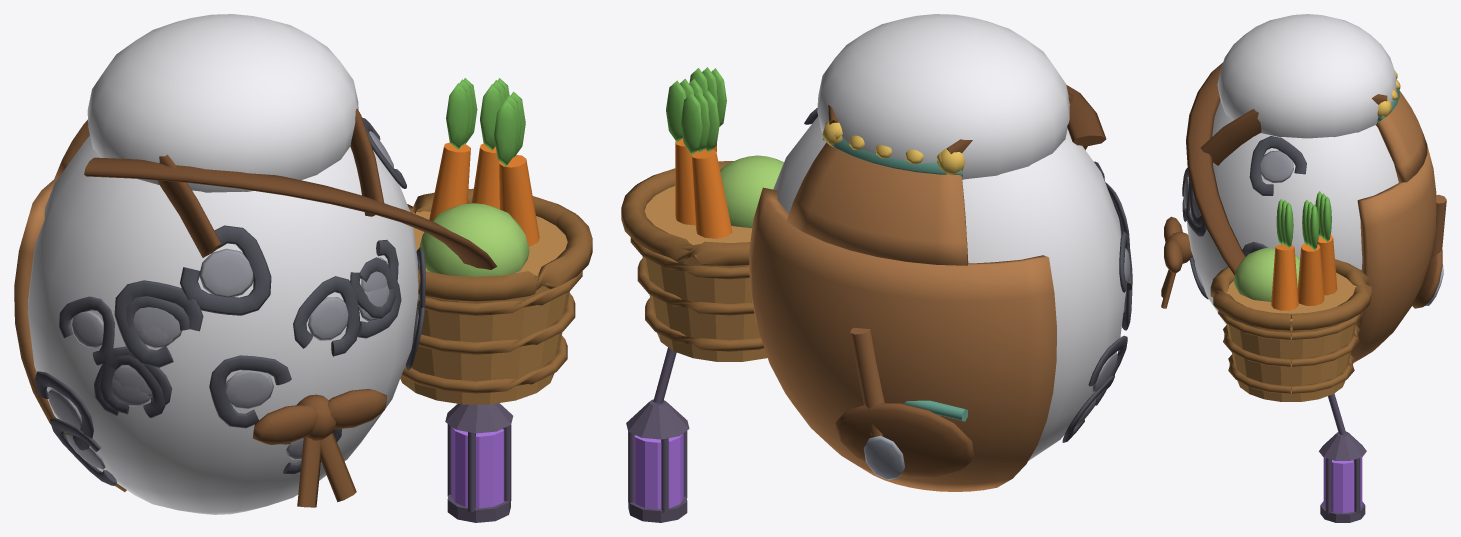
Rendered from SnowLeopardBody.glb.
3 renders of one model, left to right at view 1: azimuth 30°, elevation 25°; view 2: azimuth 150°, elevation 25°; view 3: azimuth 270°, elevation 25°, orthographic. The views are drawn at different scales.
Parts seen in each view (by area): view 1: SnowLeopardBody__Fur, SnowLeopardBody__Spot, SnowLeopardBody__BasketDark, SnowLeopardBody__Basket, SnowLeopardBody__SpotMid, SnowLeopardBody__Strap, SnowLeopardBody__ApronDark, SnowLeopardBody__Carrot, SnowLeopardBody__Cabbage, SnowLeopardBody__Leaf, SnowLeopardBody__LanternMetal, SnowLeopardBody__Apron (+1 smaller); view 2: SnowLeopardBody__Apron, SnowLeopardBody__Fur, SnowLeopardBody__Basket, SnowLeopardBody__BasketDark, SnowLeopardBody__ApronDark, SnowLeopardBody__LanternMetal, SnowLeopardBody__Carrot, SnowLeopardBody__Leaf, SnowLeopardBody__LanternGlass, SnowLeopardBody__Cabbage, SnowLeopardBody__Spot, SnowLeopardBody__Strap (+5 smaller); view 3: SnowLeopardBody__Fur, SnowLeopardBody__Apron, SnowLeopardBody__BasketDark, SnowLeopardBody__Basket, SnowLeopardBody__Strap, SnowLeopardBody__Carrot, SnowLeopardBody__LanternMetal, SnowLeopardBody__Spot, SnowLeopardBody__ApronDark, SnowLeopardBody__Leaf, SnowLeopardBody__Cabbage, SnowLeopardBody__LanternGlass (+2 smaller).
Boxes of the visible parts, x1=… form: SnowLeopardBody__Fur: x1=27, y1=14, x2=418, y2=514; SnowLeopardBody__Spot: x1=34, y1=117, x2=425, y2=485; SnowLeopardBody__BasketDark: x1=401, y1=188, x2=592, y2=393; SnowLeopardBody__Basket: x1=400, y1=211, x2=569, y2=404; SnowLeopardBody__SpotMid: x1=48, y1=131, x2=420, y2=469; SnowLeopardBody__Strap: x1=84, y1=109, x2=497, y2=269; SnowLeopardBody__ApronDark: x1=253, y1=389, x2=387, y2=507; SnowLeopardBody__Carrot: x1=429, y1=142, x2=539, y2=246; SnowLeopardBody__Cabbage: x1=419, y1=203, x2=529, y2=276; SnowLeopardBody__Leaf: x1=446, y1=78, x2=525, y2=166; SnowLeopardBody__LanternMetal: x1=445, y1=403, x2=513, y2=522; SnowLeopardBody__Apron: x1=14, y1=119, x2=126, y2=491; SnowLeopardBody__Apron: x1=749, y1=142, x2=1056, y2=491; SnowLeopardBody__Fur: x1=773, y1=14, x2=1125, y2=460; SnowLeopardBody__Basket: x1=642, y1=186, x2=767, y2=361; SnowLeopardBody__BasketDark: x1=621, y1=161, x2=763, y2=351; SnowLeopardBody__ApronDark: x1=835, y1=403, x2=974, y2=476; SnowLeopardBody__LanternMetal: x1=626, y1=347, x2=689, y2=522; SnowLeopardBody__Carrot: x1=675, y1=138, x2=732, y2=238; SnowLeopardBody__Leaf: x1=666, y1=67, x2=726, y2=154; SnowLeopardBody__LanternGlass: x1=634, y1=433, x2=683, y2=509; SnowLeopardBody__Cabbage: x1=720, y1=155, x2=783, y2=228; SnowLeopardBody__Spot: x1=804, y1=108, x2=1132, y2=442; SnowLeopardBody__Strap: x1=828, y1=85, x2=1106, y2=154; SnowLeopardBody__Fur: x1=1185, y1=14, x2=1398, y2=324; SnowLeopardBody__Apron: x1=1351, y1=91, x2=1436, y2=362; SnowLeopardBody__BasketDark: x1=1210, y1=259, x2=1371, y2=393; SnowLeopardBody__Basket: x1=1226, y1=272, x2=1356, y2=401; SnowLeopardBody__Strap: x1=1186, y1=62, x2=1387, y2=275; SnowLeopardBody__Carrot: x1=1271, y1=235, x2=1337, y2=310; SnowLeopardBody__LanternMetal: x1=1319, y1=393, x2=1366, y2=522; SnowLeopardBody__Spot: x1=1182, y1=136, x2=1306, y2=299; SnowLeopardBody__ApronDark: x1=1161, y1=216, x2=1442, y2=308; SnowLeopardBody__Leaf: x1=1276, y1=191, x2=1331, y2=250; SnowLeopardBody__Cabbage: x1=1233, y1=247, x2=1299, y2=301; SnowLeopardBody__LanternGlass: x1=1323, y1=457, x2=1362, y2=513.
Size of the model in its own units: 1.3 by 1.35 by 0.8878.
